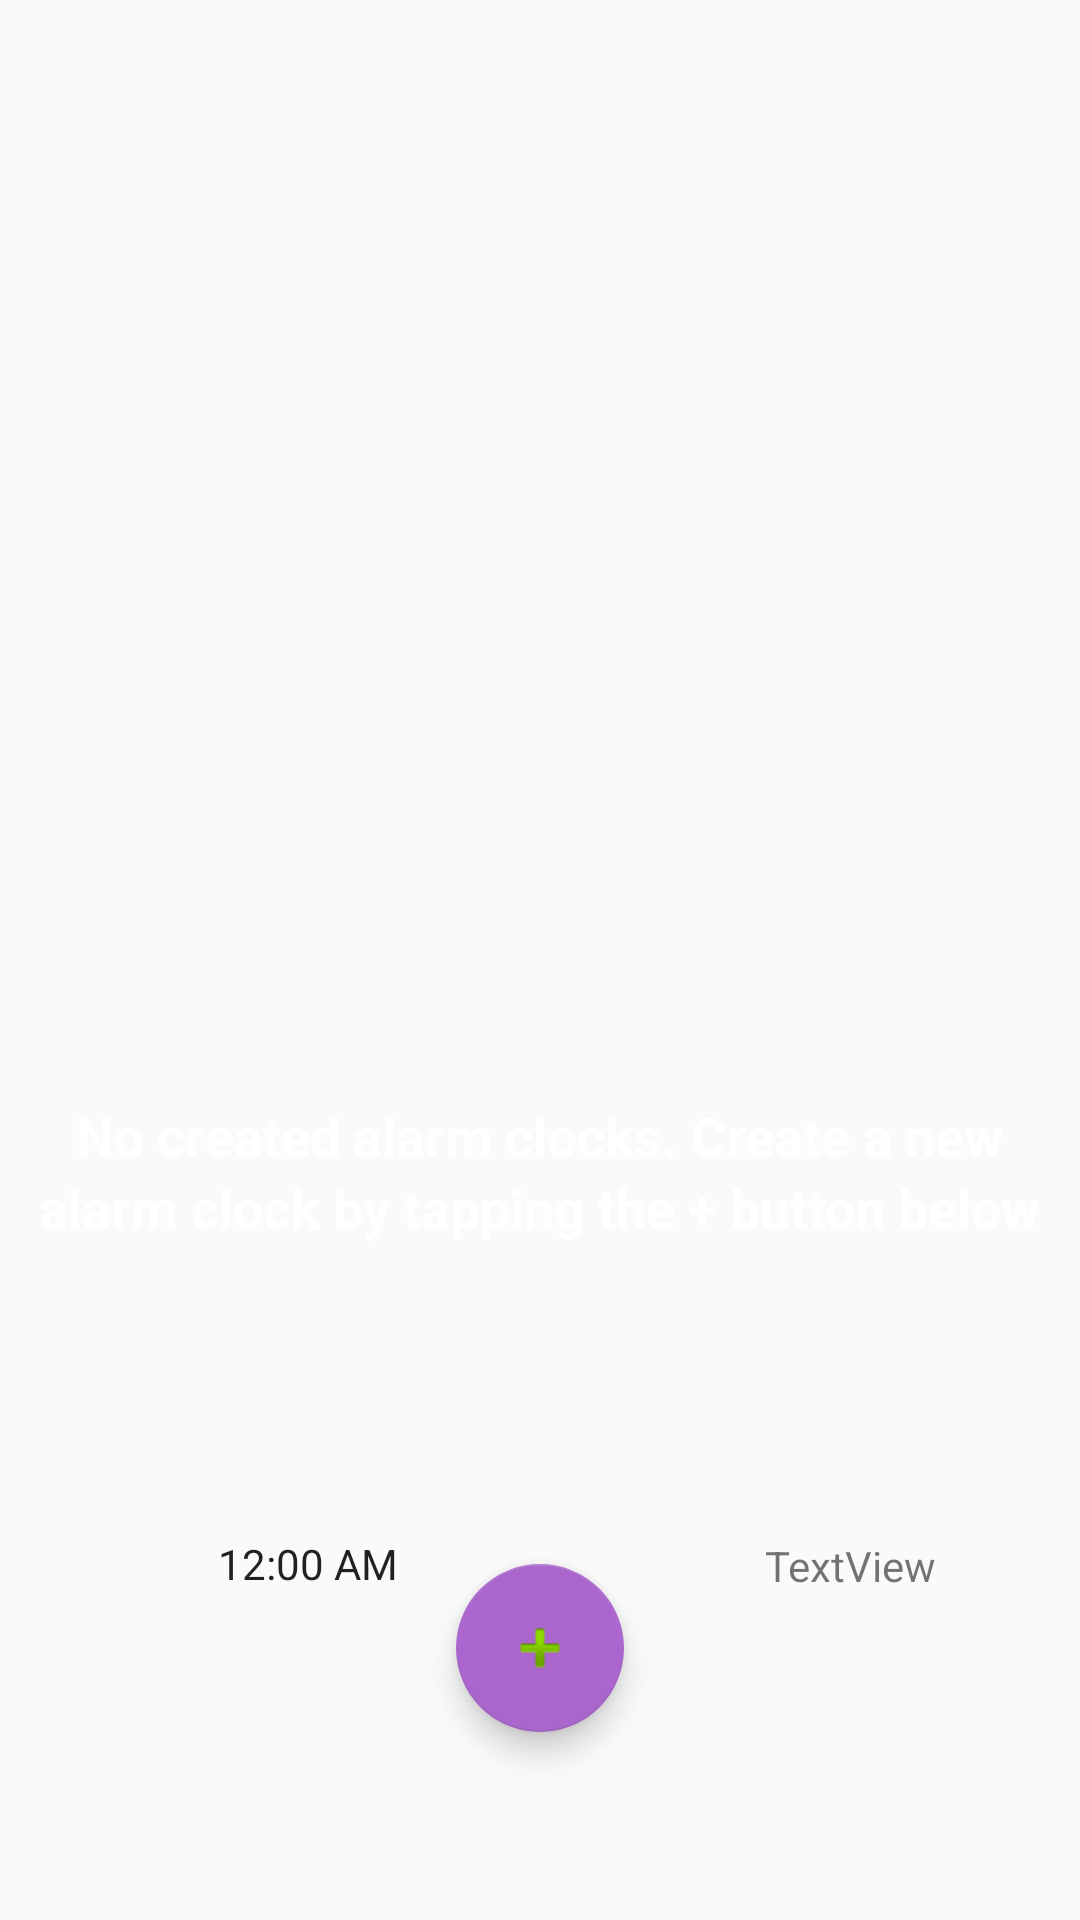

Named icons in this screenshot (1080px x 1920px) and their centers, [x,y]:
add: [540,1648]
